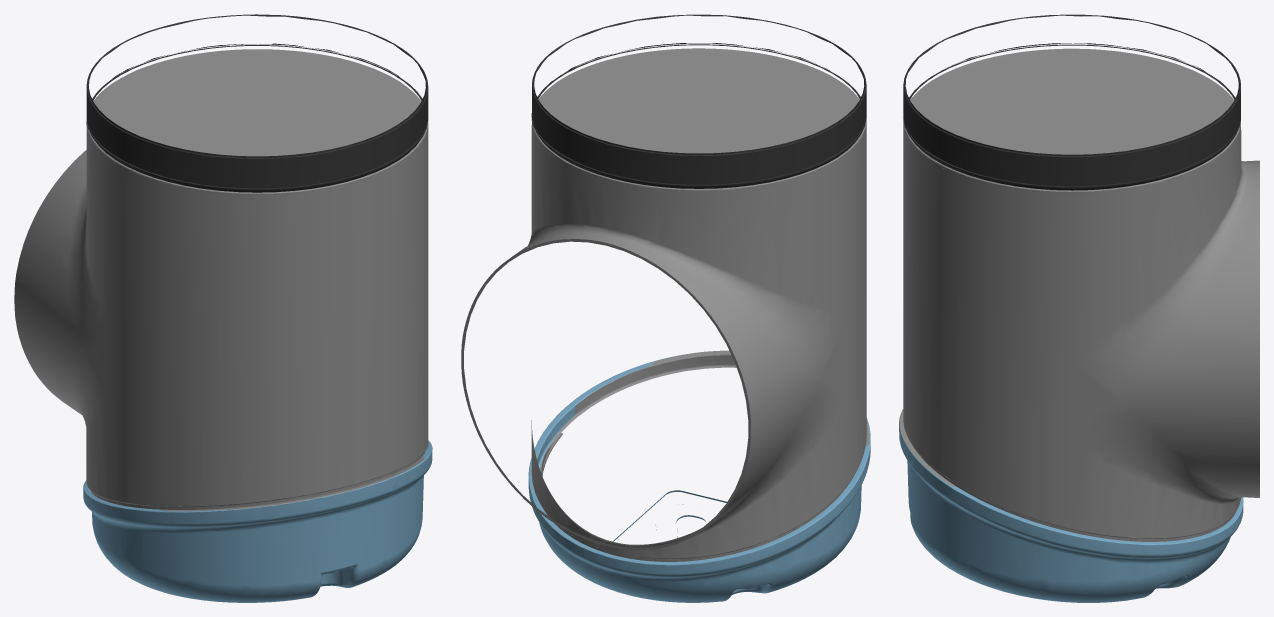
3 renders of one model, left to right at view 1: azimuth 30°, elevation 25°; view 2: azimuth 150°, elevation 25°; view 3: azimuth 270°, elevation 25°, orthographic. The views are drawn at different scales.
Visible parts, largest first — view 1: /eSeries_UR3e/eSeries_UR3e-mesh/0, /eSeries_UR3e_037/eSeries_UR3e_054-mesh/0, /eSeries_UR3e_036/eSeries_UR3e_053-mesh/0; view 2: /eSeries_UR3e/eSeries_UR3e-mesh/0, /eSeries_UR3e_037/eSeries_UR3e_054-mesh/0, /eSeries_UR3e_036/eSeries_UR3e_053-mesh/0; view 3: /eSeries_UR3e/eSeries_UR3e-mesh/0, /eSeries_UR3e_037/eSeries_UR3e_054-mesh/0, /eSeries_UR3e_036/eSeries_UR3e_053-mesh/0.
Part boxes in pixels (x1=…): /eSeries_UR3e/eSeries_UR3e-mesh/0: x1=14, y1=49, x2=428, y2=511; /eSeries_UR3e_037/eSeries_UR3e_054-mesh/0: x1=83, y1=440, x2=432, y2=602; /eSeries_UR3e_036/eSeries_UR3e_053-mesh/0: x1=86, y1=14, x2=428, y2=192; /eSeries_UR3e/eSeries_UR3e-mesh/0: x1=461, y1=48, x2=869, y2=561; /eSeries_UR3e_037/eSeries_UR3e_054-mesh/0: x1=528, y1=356, x2=870, y2=602; /eSeries_UR3e_036/eSeries_UR3e_053-mesh/0: x1=531, y1=14, x2=866, y2=188; /eSeries_UR3e/eSeries_UR3e-mesh/0: x1=899, y1=48, x2=1259, y2=541; /eSeries_UR3e_037/eSeries_UR3e_054-mesh/0: x1=899, y1=417, x2=1243, y2=602; /eSeries_UR3e_036/eSeries_UR3e_053-mesh/0: x1=903, y1=14, x2=1240, y2=190.
Size of the model in its own units: 0.0644 by 0.097 by 0.0673.
